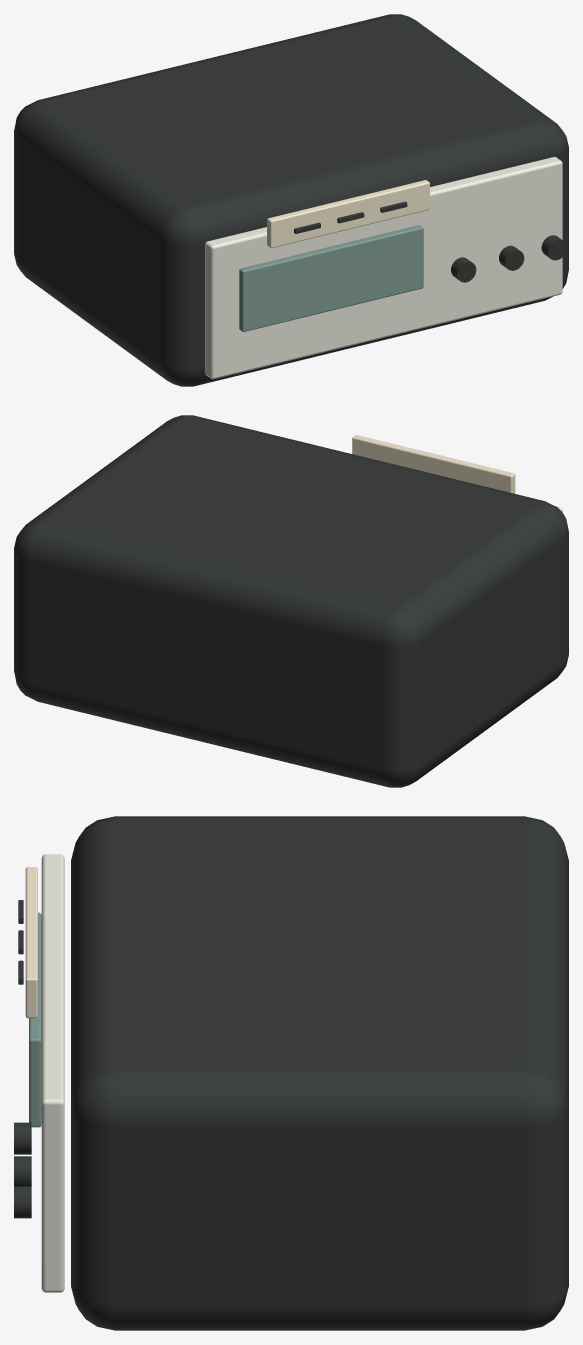
The model's file is spacecraft-thermal-test-chamber-gauge-controller-89f13f2f__32050.glb.
The picture shows the model from 3 angles, top to bottom: view 1: azimuth 30°, elevation 25°; view 2: azimuth 150°, elevation 25°; view 3: azimuth 270°, elevation 25°; orthographic projection. The views are drawn at different scales.
Visible parts, largest first — view 1: gauge-controller; view 2: gauge-controller; view 3: gauge-controller.
Part boxes in pixels (bbox=[...]): gauge-controller: bbox=[14, 14, 568, 386]; gauge-controller: bbox=[14, 415, 568, 787]; gauge-controller: bbox=[14, 816, 568, 1330].
Bounding box in the file's own units: 0.38 × 0.16 × 0.312.
